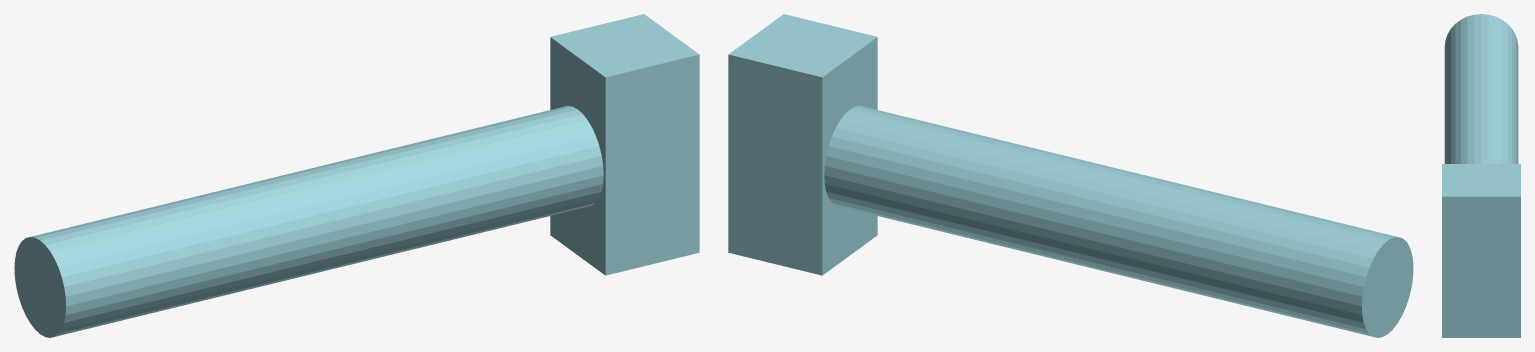
The model's file is cylinder_hammer_v1003.obj.
3 renders of one model, left to right at view 1: azimuth 30°, elevation 25°; view 2: azimuth 150°, elevation 25°; view 3: azimuth 270°, elevation 25°, orthographic. The views are drawn at different scales.
Size of the model in its own units: 0.303 by 0.0909 by 0.046.
1 material, 1 textured.
